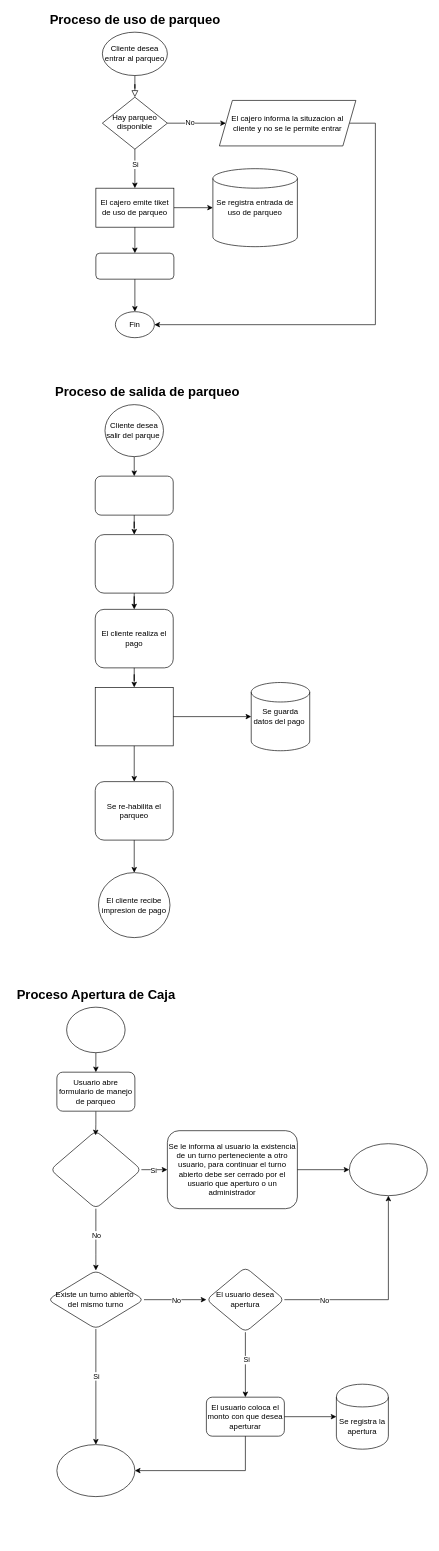
This 439x1551 diagram has some shape labels left out. The centre of each missing label's shape, as x and y in pixels:
Cajero solicita ticket: point 134,495
Cliente recibe tiket de uso: point 134,266
Con el id del tiket se localiza la informacion a cobrar por el tiempo de uso: point 134,563
El cajero emite cobro: point 134,716
Existe un turno de otro cajero abierto: point 95,1169
Se cierre formulario de manejo de parqueo: point 388,1169
Se permite utilizar manejo de parqueo: point 95,1470
Usuario inicia sesion: point 95,1030
